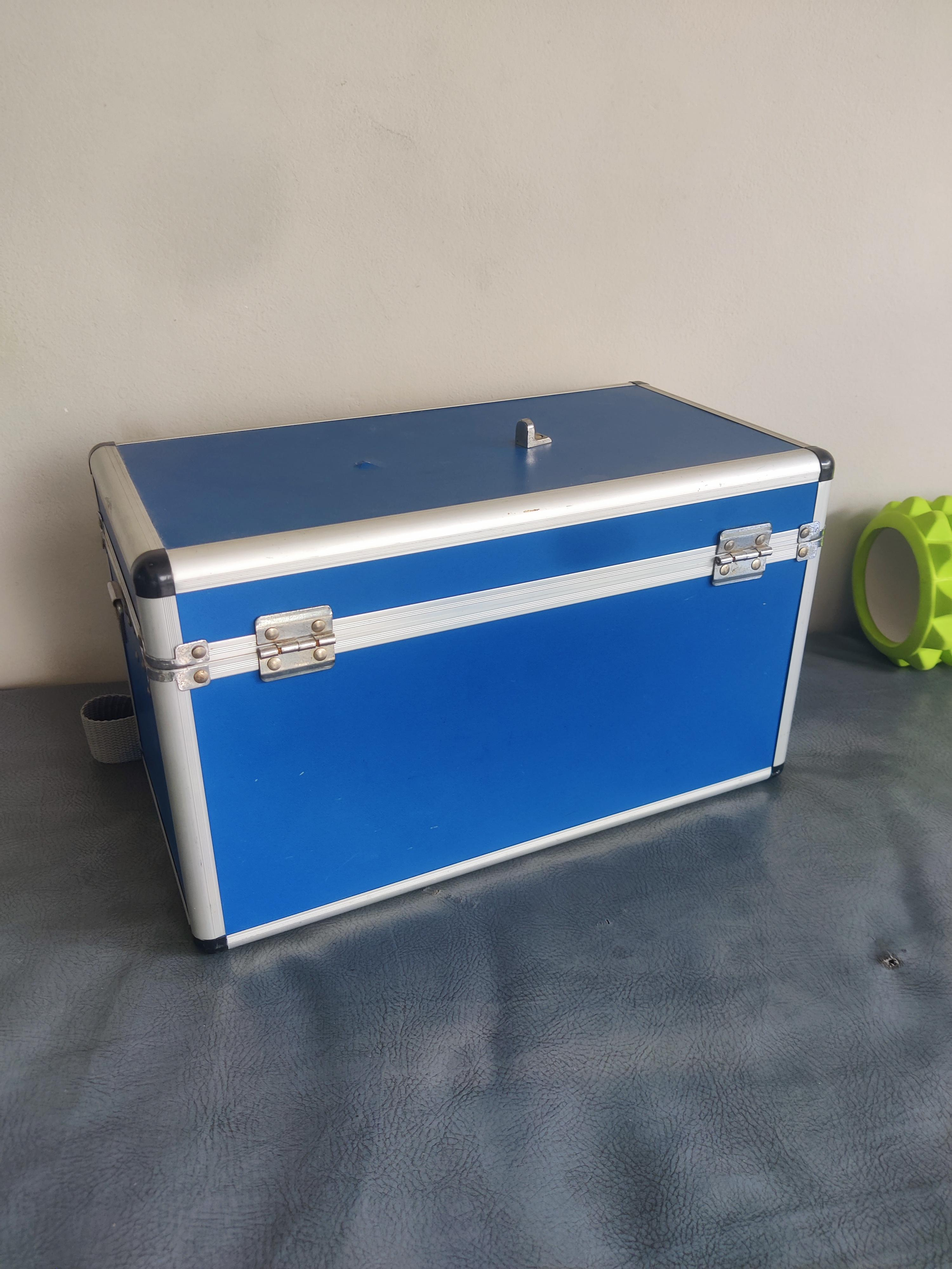FirstAidBox: (44, 353, 852, 976)
